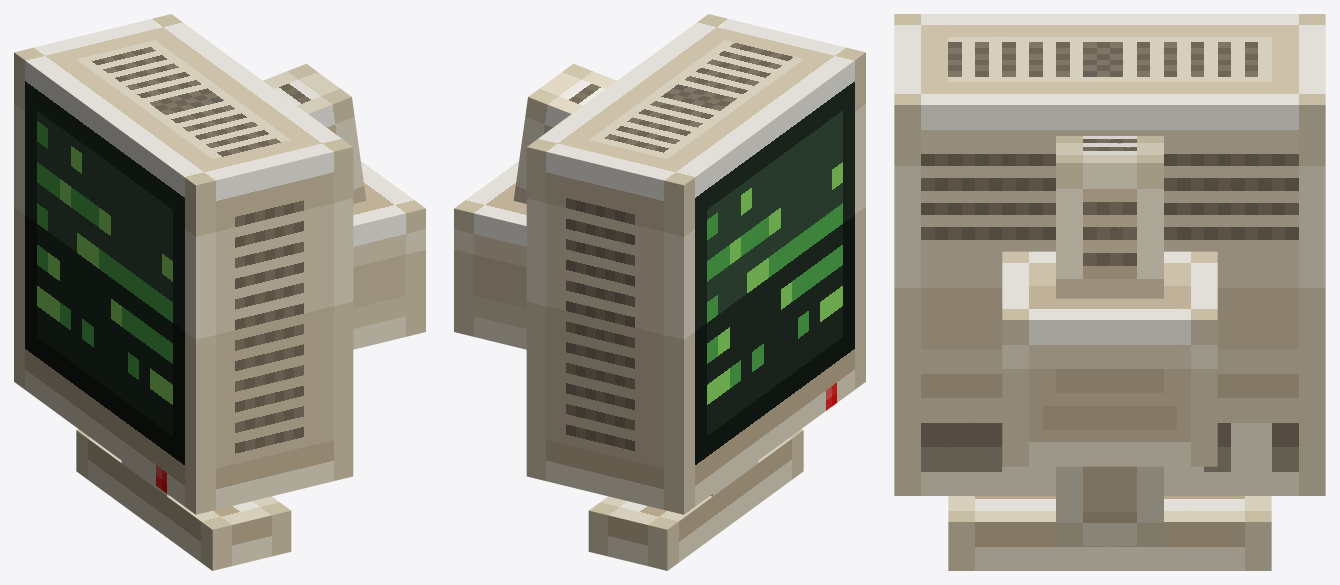
File: democomputer.glb
3 renders of one model, left to right at view 1: azimuth 30°, elevation 25°; view 2: azimuth 150°, elevation 25°; view 3: azimuth 270°, elevation 25°, orthographic. The views are drawn at different scales.
Visible parts, largest first — view 1: cube_2, cube_3, cube_0, cube_4; view 2: cube_2, cube_3, cube_0, cube_4; view 3: cube_2, cube_3, cube_0, cube_4, cube_5.
Part boxes in pixels (left/top/right/bottom): cube_2: left=14, top=14, right=353, bottom=514; cube_3: left=353, top=161, right=425, bottom=349; cube_0: left=76, top=429, right=291, bottom=570; cube_4: left=263, top=64, right=366, bottom=203; cube_2: left=526, top=14, right=865, bottom=514; cube_3: left=454, top=161, right=526, bottom=349; cube_0: left=588, top=429, right=803, bottom=570; cube_4: left=513, top=64, right=616, bottom=203; cube_2: left=894, top=14, right=1325, bottom=495; cube_3: left=1002, top=251, right=1217, bottom=466; cube_0: left=948, top=496, right=1271, bottom=570; cube_4: left=1056, top=136, right=1163, bottom=298; cube_5: left=1056, top=466, right=1163, bottom=545.
Size of the model in its own units: 0.4375 by 0.625 by 0.5.
1 material, 1 textured.
